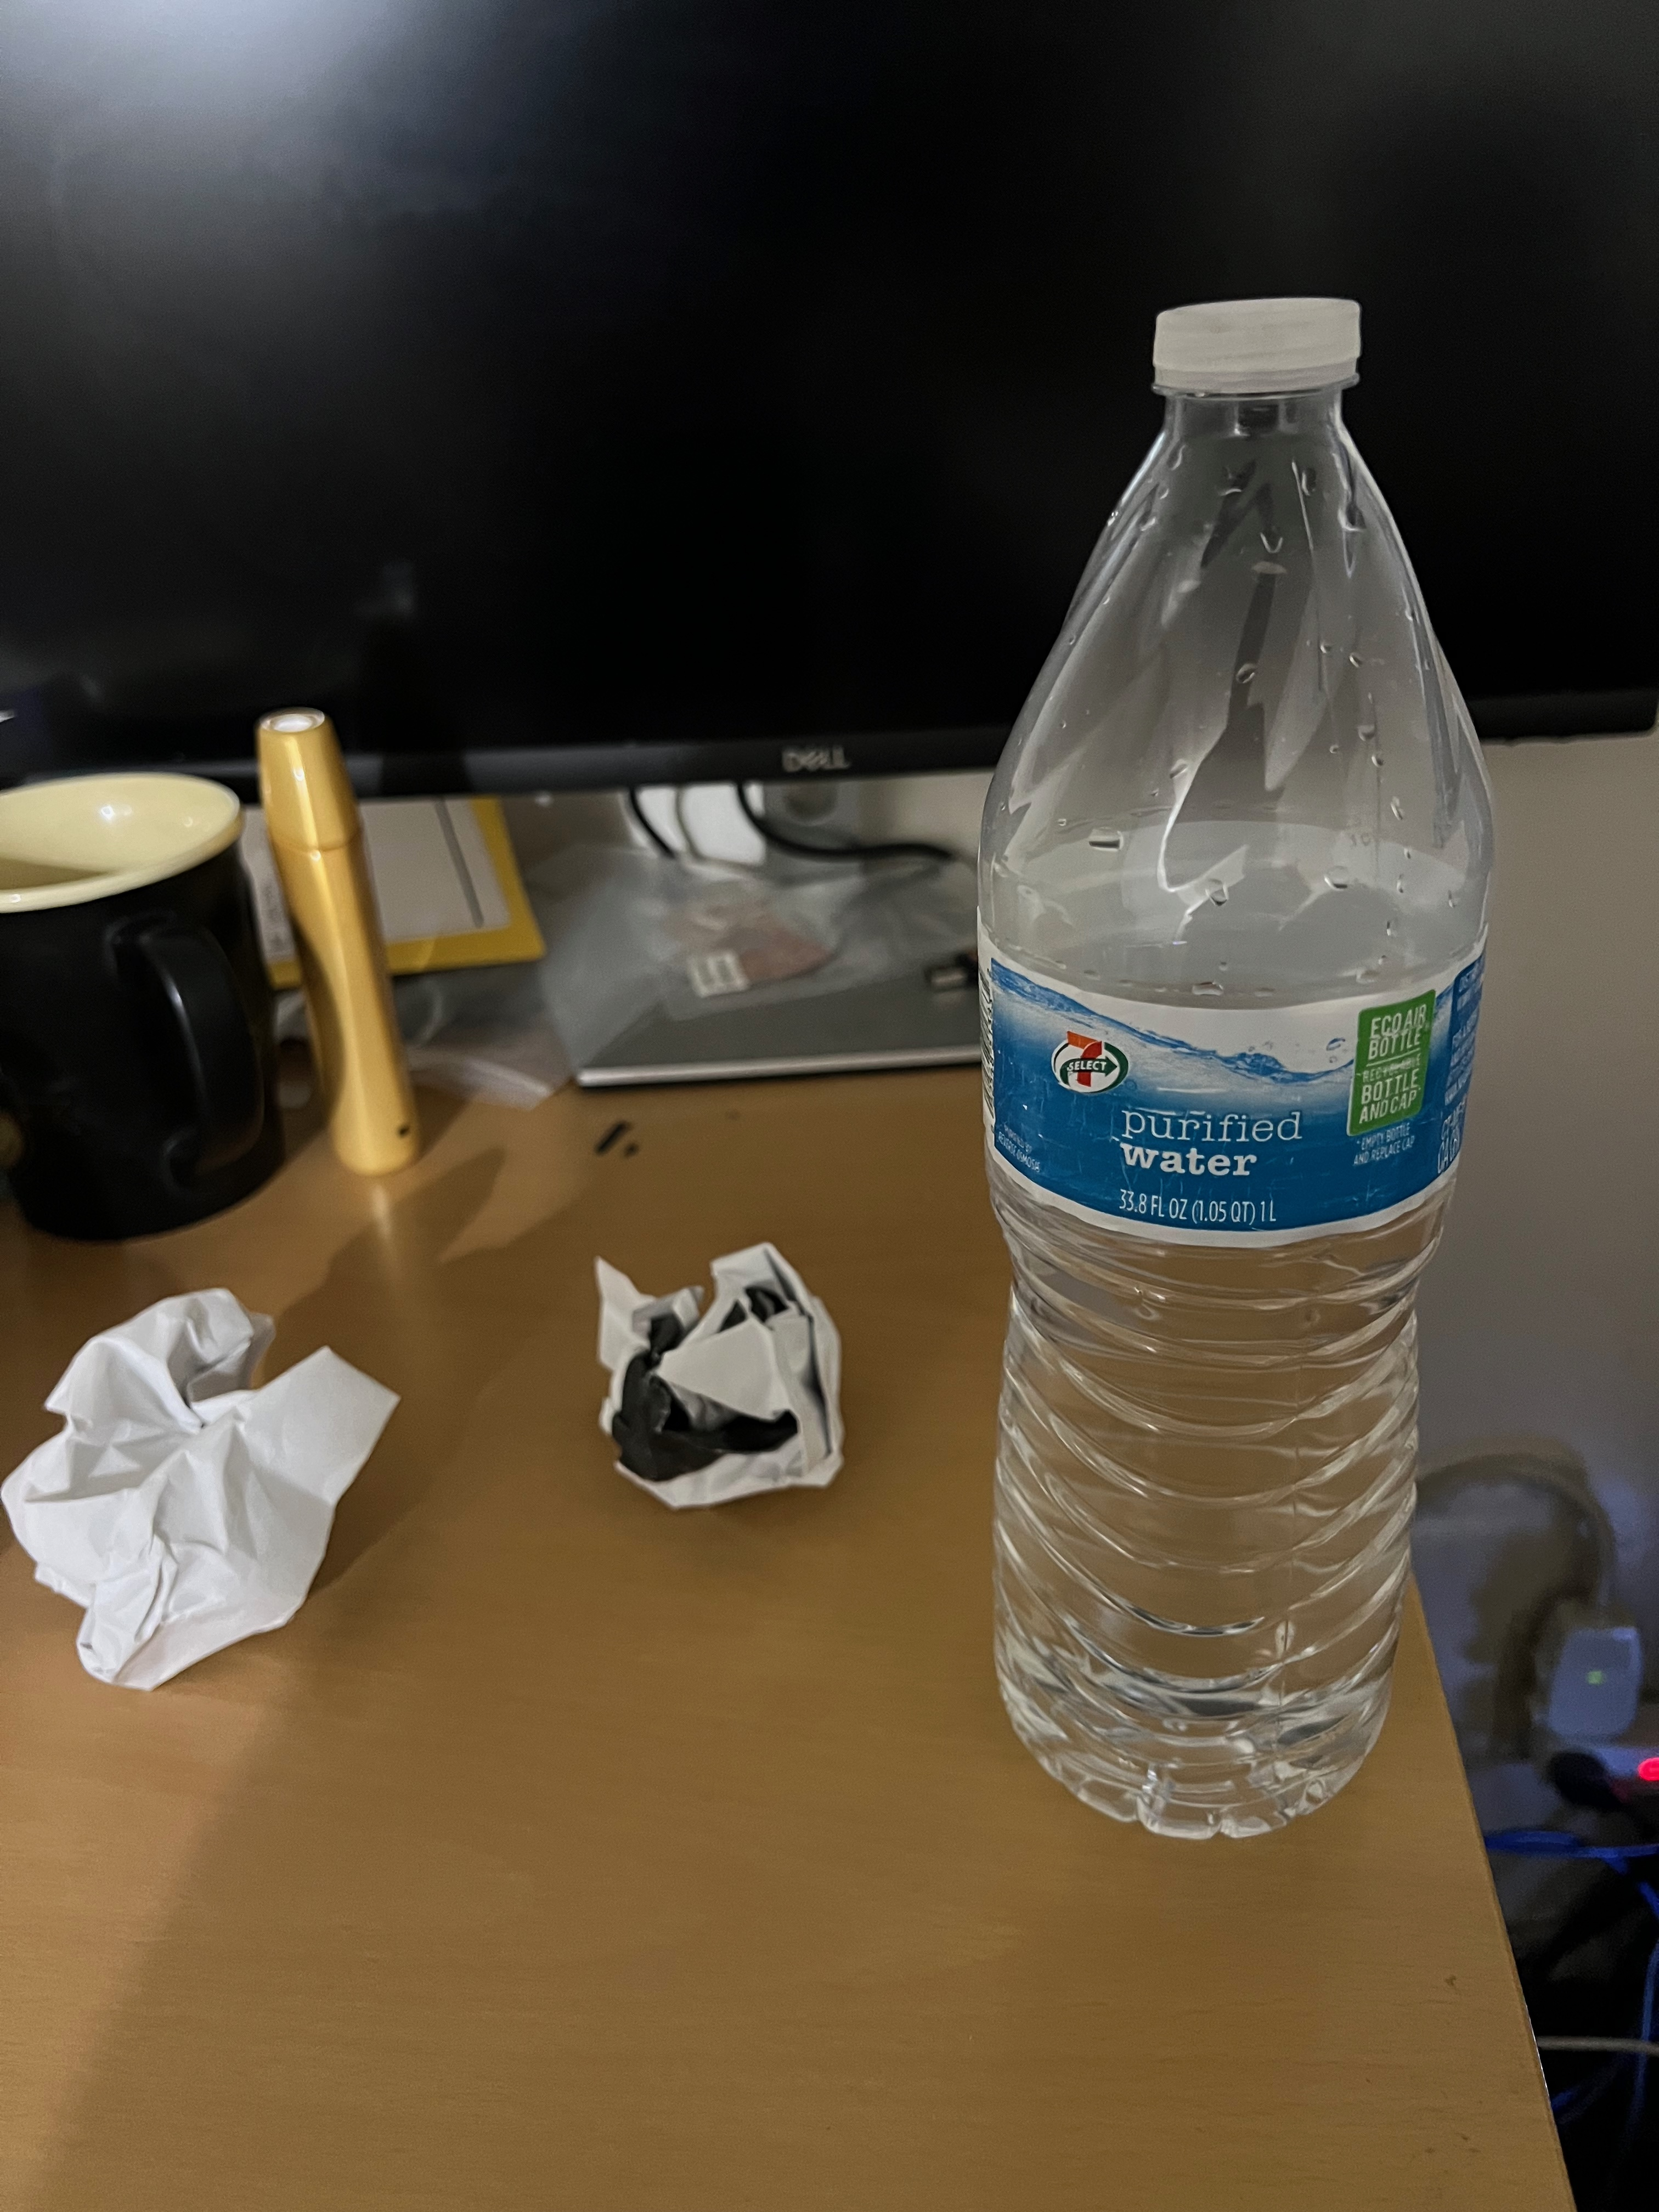trash bottle: (971, 261, 1513, 1857)
trash paper: (2, 1277, 416, 1731), (570, 1221, 884, 1548)
